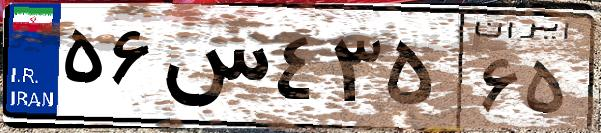3: (330, 28, 385, 110)
4: (270, 28, 330, 110)
5: (385, 28, 445, 110), (57, 26, 110, 100), (525, 38, 570, 115)
6: (475, 38, 525, 113), (110, 28, 158, 98)
س: (158, 20, 270, 120)
